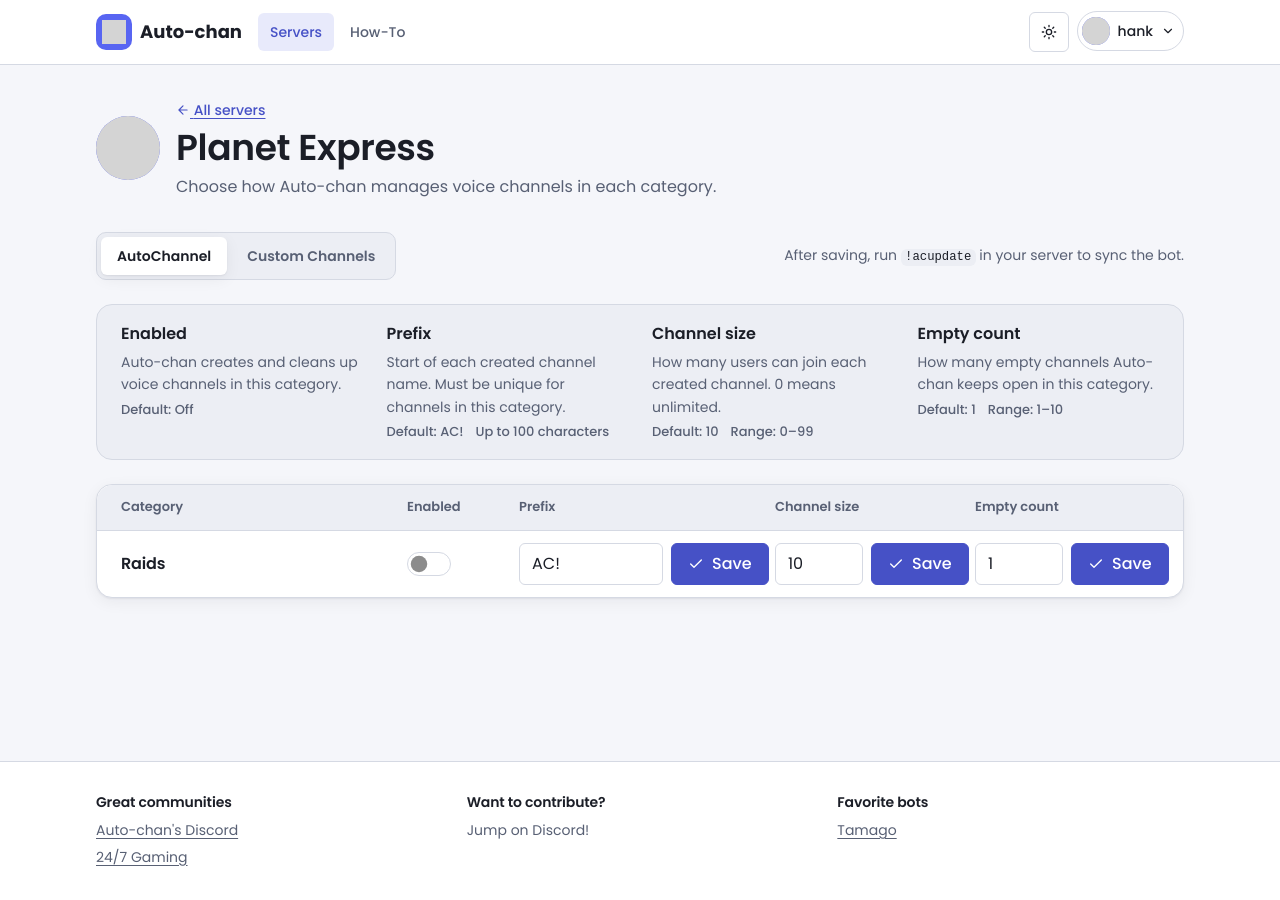
App › toggles a category and confirms with a toast
Click the switch named "Raids enabled" at point(429, 564), box [407,552,451,576]
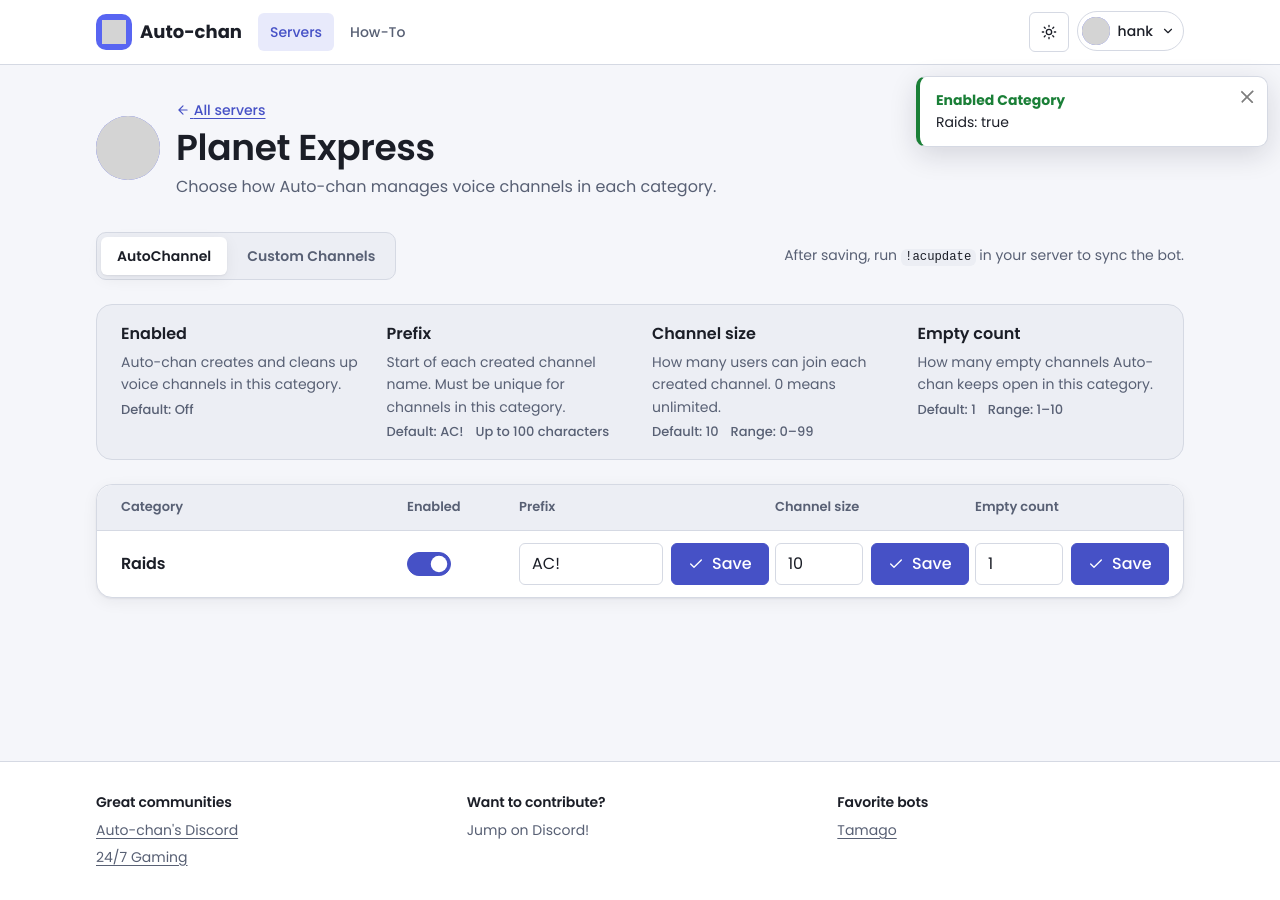
Now the switch named "Raids enabled" is checked, box [407,552,451,576]
Now the message shows "Raids: true", box [936,112,1009,132]
